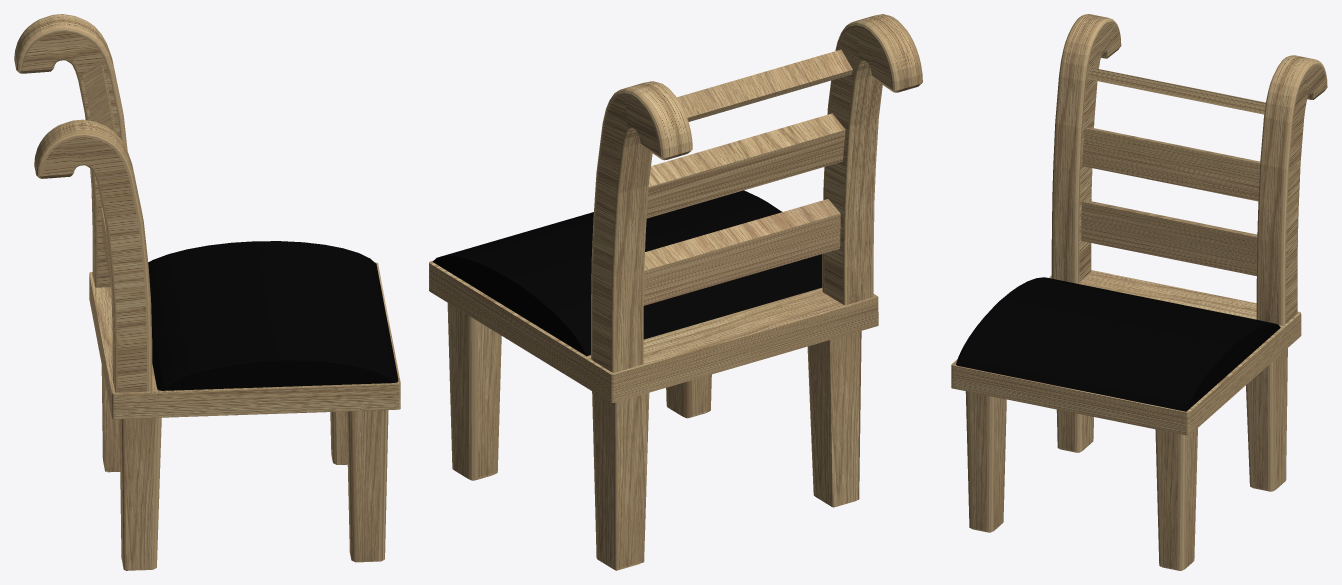
File: DeskChair.fbx
3 renders of one model, left to right at view 1: azimuth 30°, elevation 25°; view 2: azimuth 150°, elevation 25°; view 3: azimuth 270°, elevation 25°, orthographic. The views are drawn at different scales.
Visible parts, largest first — view 1: DeskChair; view 2: DeskChair; view 3: DeskChair.
Boxes of the visible parts, x1,y1,x2,y2 form: DeskChair: [14, 14, 400, 570]; DeskChair: [429, 14, 922, 570]; DeskChair: [951, 14, 1327, 570].
Size of the model in its own units: 536 by 584 by 491.
